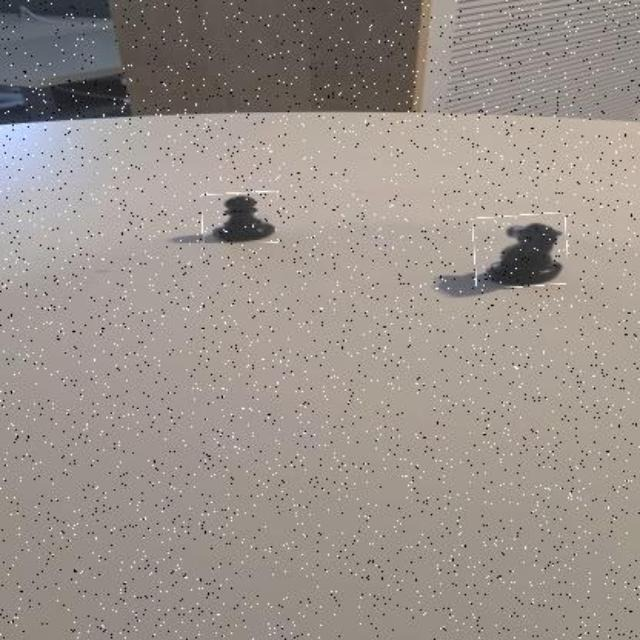black-knight: (474, 215, 569, 288)
black-pawn: (204, 192, 280, 244)
